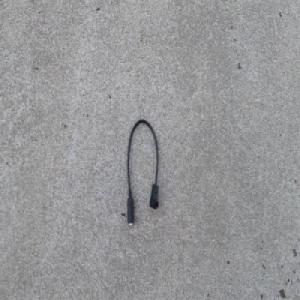Wire: (125, 117, 159, 228)
